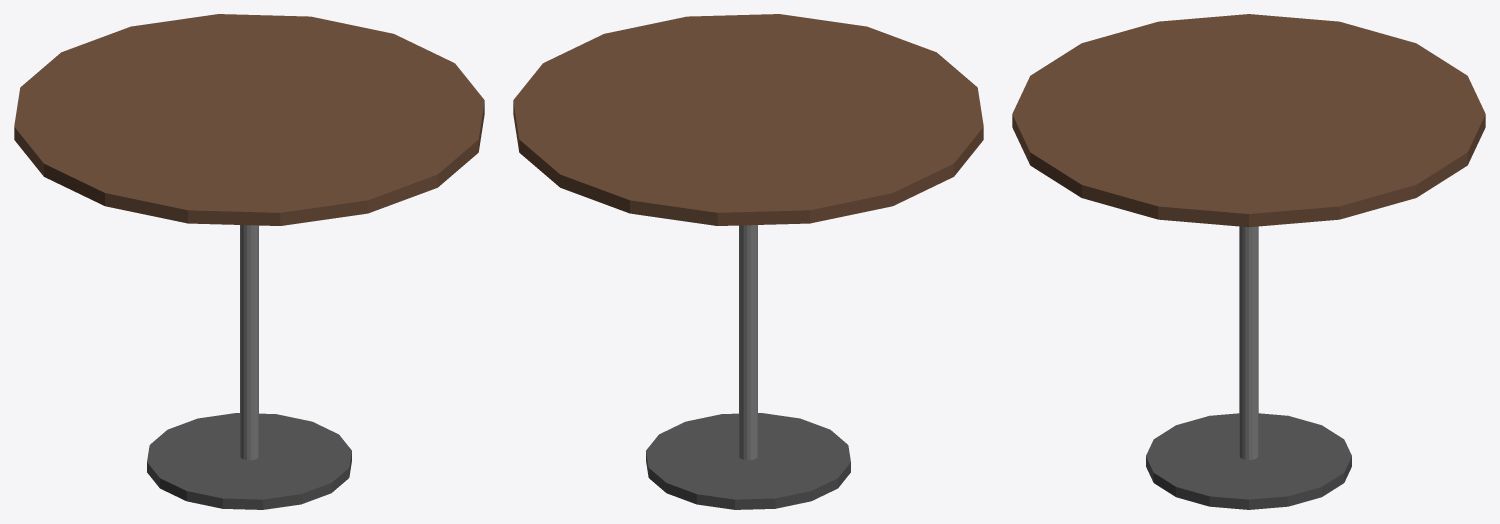
The model's file is Table_01_C2.fbx.
The picture shows the model from 3 angles, left to right: view 1: azimuth 30°, elevation 25°; view 2: azimuth 150°, elevation 25°; view 3: azimuth 270°, elevation 25°; orthographic projection.
Parts seen in each view (by area): view 1: Table_01_C2; view 2: Table_01_C2; view 3: Table_01_C2.
Boxes of the visible parts, <box> form: Table_01_C2: <box>14,14,484,509</box>; Table_01_C2: <box>513,14,983,509</box>; Table_01_C2: <box>1012,14,1485,509</box>.
Bounding box in the file's own units: 97.42 × 80 × 97.42.
